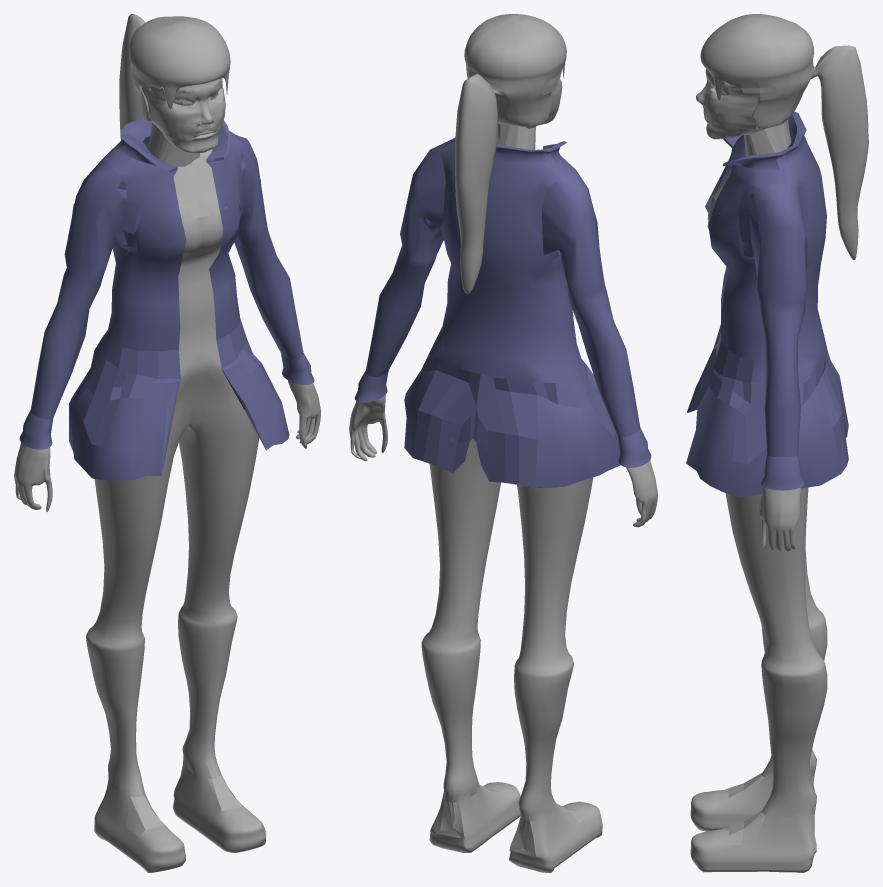
File: rhona.fbx
3 views of the same model, side by side, from view 1: azimuth 30°, elevation 25°; view 2: azimuth 150°, elevation 25°; view 3: azimuth 270°, elevation 25° (orthographic).
Visible parts, largest first — view 1: pTorus2, pCylinder15; view 2: pCylinder15, pTorus2; view 3: pTorus2, pCylinder15.
Boxes of the visible parts, x1=… form: pTorus2: x1=14, y1=14, x2=320, y2=872; pCylinder15: x1=19, y1=117, x2=314, y2=480; pCylinder15: x1=354, y1=126, x2=651, y2=488; pTorus2: x1=349, y1=14, x2=657, y2=872; pTorus2: x1=690, y1=14, x2=868, y2=872; pCylinder15: x1=686, y1=111, x2=848, y2=496.
Size of the model in its own units: 1.33 by 3.45 by 0.6938.
